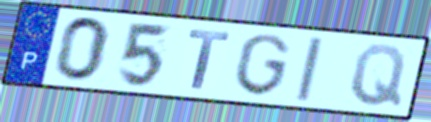0: (50, 16, 118, 83)
5: (114, 21, 174, 89)
G: (231, 32, 293, 98)
I: (293, 35, 326, 104)
Q: (348, 42, 409, 110)
T: (186, 28, 232, 92)
